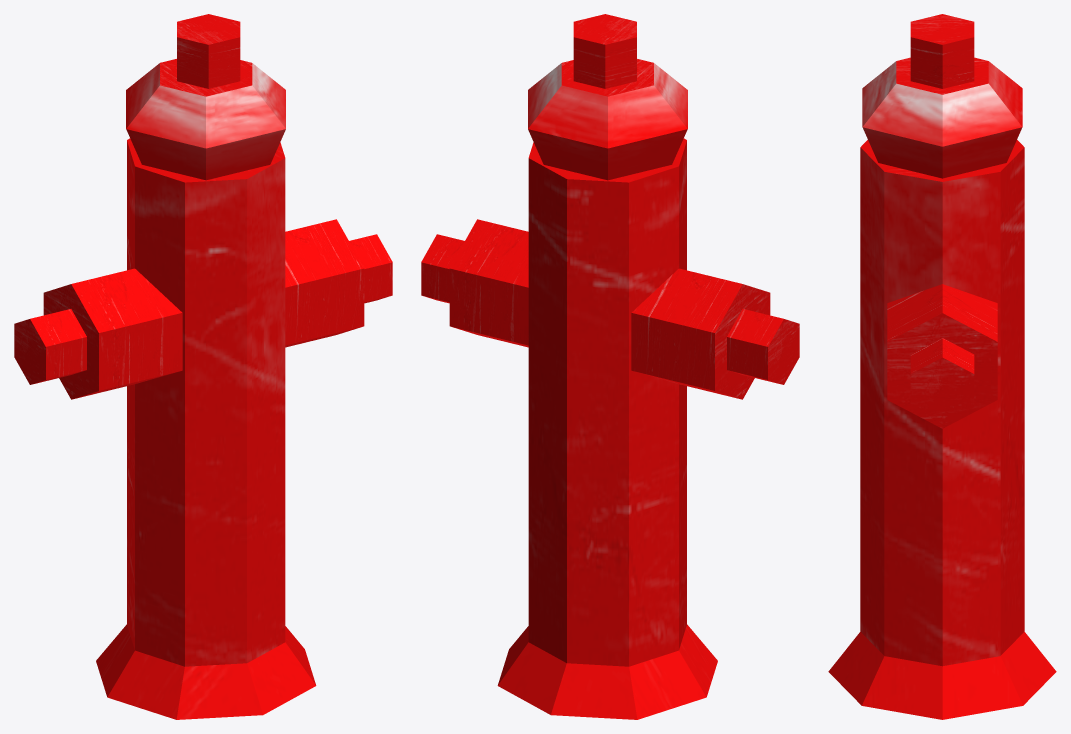
Rendered from Hydrant_2.fbx.
3 renders of one model, left to right at view 1: azimuth 30°, elevation 25°; view 2: azimuth 150°, elevation 25°; view 3: azimuth 270°, elevation 25°, orthographic.
Parts seen in each view (by area): view 1: Hydrant__2; view 2: Hydrant__2; view 3: Hydrant__2.
Part boxes in pixels (x1=…): Hydrant__2: x1=14, y1=14, x2=392, y2=719; Hydrant__2: x1=421, y1=14, x2=799, y2=719; Hydrant__2: x1=828, y1=14, x2=1056, y2=719.
Bounding box in the file's own units: 3.43 × 6.08 × 1.96.
1 material, 1 textured.
